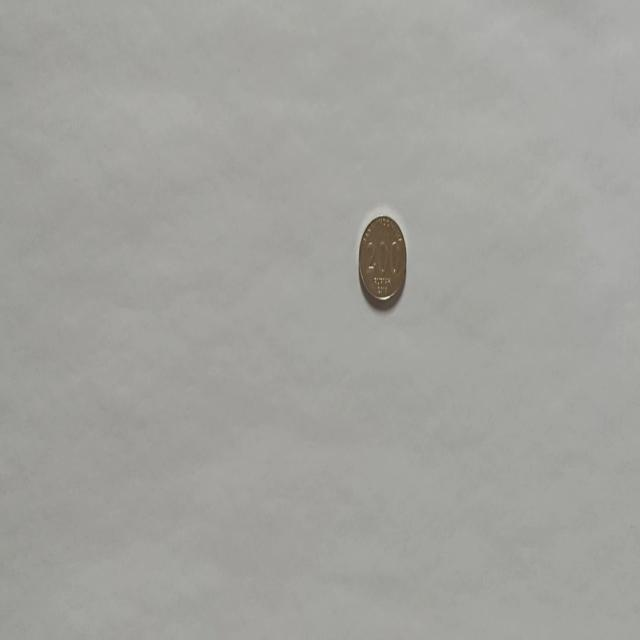dua ratus rupiah: (357, 212, 407, 308)
